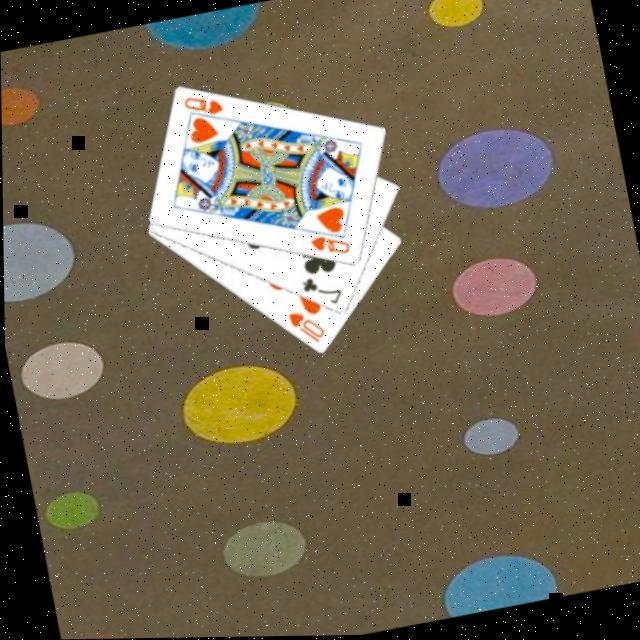10H: (285, 303, 330, 350)
7C: (298, 267, 349, 312)
QH: (181, 87, 231, 131), (306, 227, 354, 263)
